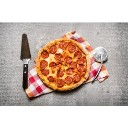pepperonipizza: (36, 38, 91, 89)
